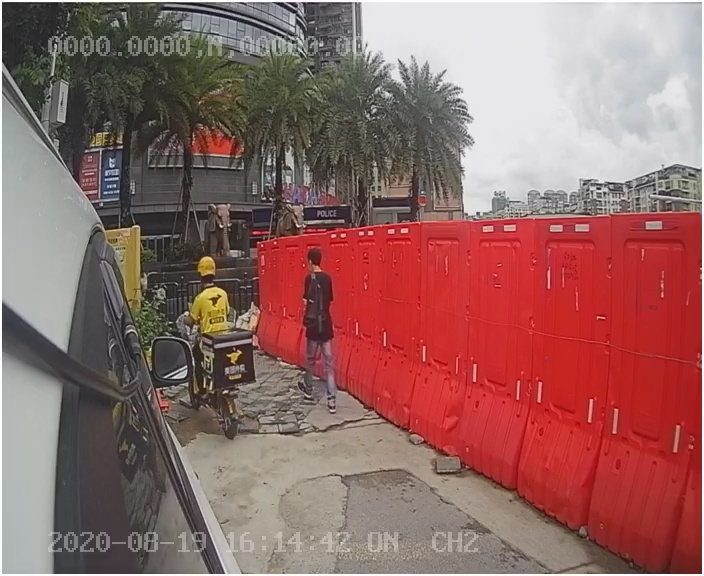person: (285, 243, 353, 425)
